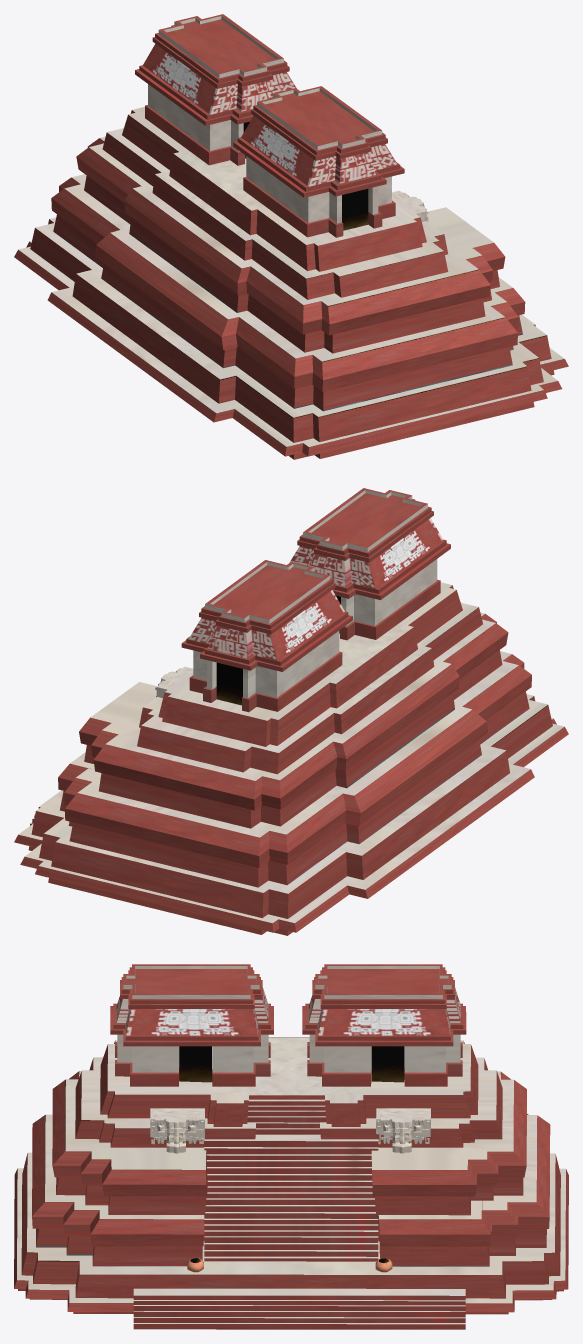
The model's file is compl_x.dae.
The picture shows the model from 3 angles, top to bottom: view 1: azimuth 30°, elevation 25°; view 2: azimuth 150°, elevation 25°; view 3: azimuth 270°, elevation 25°; orthographic projection. The views are drawn at different scales.
Visible parts, largest first — view 1: compl_x; view 2: compl_x; view 3: compl_x.
Boxes of the visible parts, x1=… form: compl_x: x1=14, y1=14, x2=568, y2=459; compl_x: x1=14, y1=488, x2=568, y2=935; compl_x: x1=14, y1=964, x2=568, y2=1329.
Size of the model in its own units: 23.55 by 34.49 by 17.52.
Materials: 1 (1 with a texture image).
